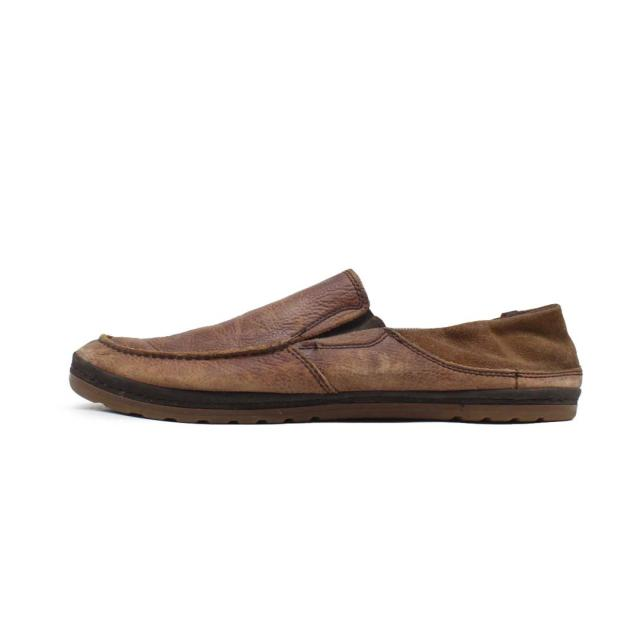heel: (505, 306, 583, 386)
midsole: (69, 350, 578, 424)
uppersole: (80, 269, 510, 391)
